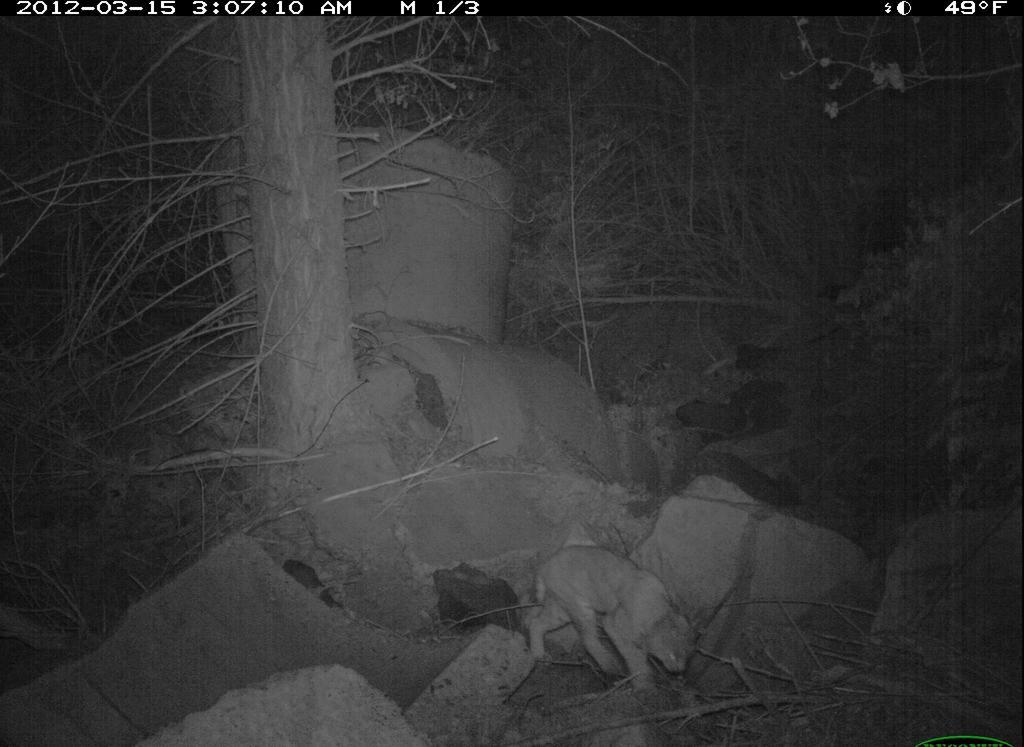bobcat: (521, 545, 705, 703)
